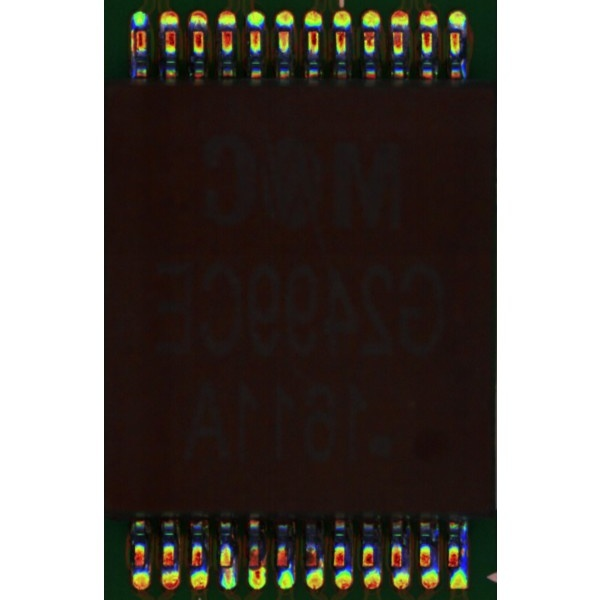Bad_podu: (223, 558, 231, 575), (252, 563, 261, 577)
Bad_qiaojiao: (130, 29, 136, 77), (461, 524, 467, 567)
